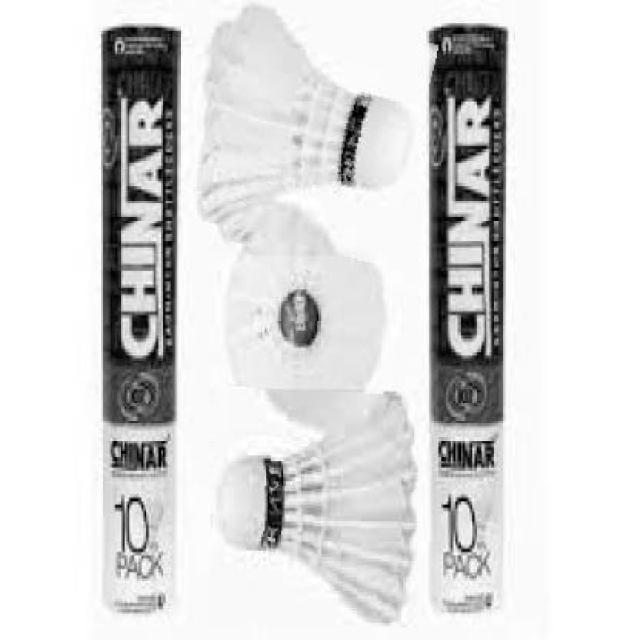Shuttlecock: (197, 7, 428, 255), (211, 389, 418, 628), (220, 202, 392, 438)
